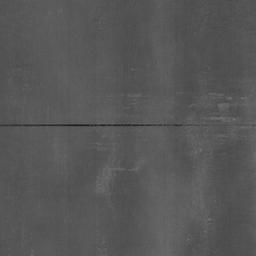Crease: (0, 123, 200, 127)
